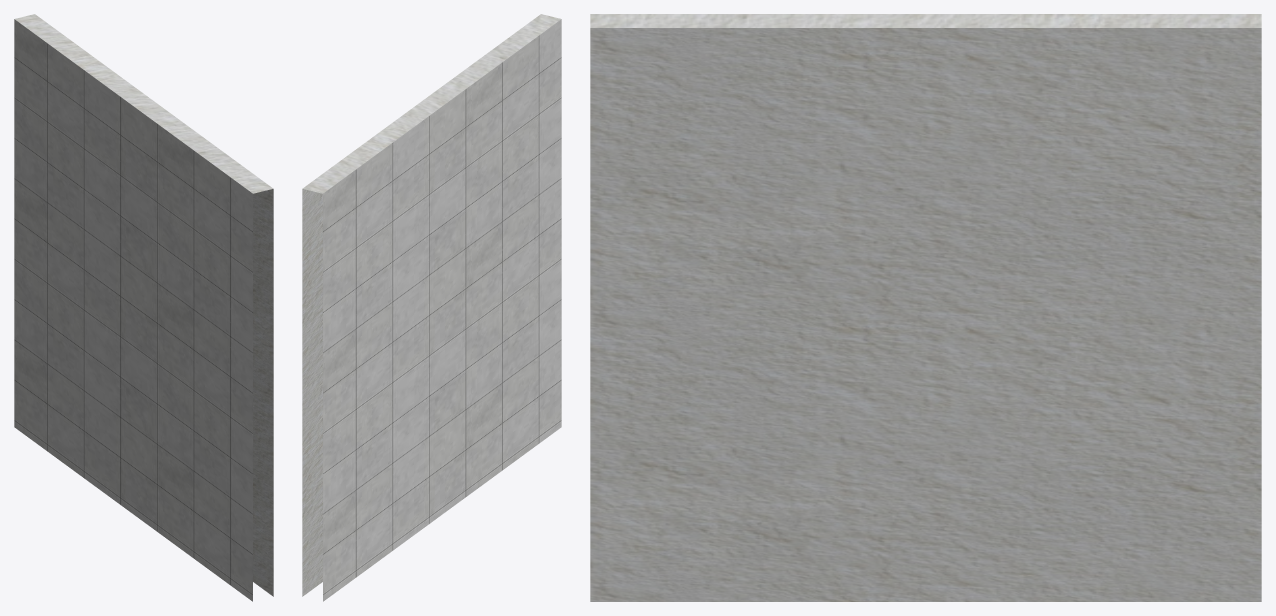
Rendered from wall_13.obj.
3 views of the same model, side by side, from view 1: azimuth 30°, elevation 25°; view 2: azimuth 150°, elevation 25°; view 3: azimuth 270°, elevation 25° (orthographic). The views are drawn at different scales.
Parts seen in each view (by area): view 1: Cube.005; view 2: Cube.005; view 3: Cube.005.
Boxes of the visible parts, x1=… form: Cube.005: x1=14, y1=14, x2=273, y2=601; Cube.005: x1=302, y1=14, x2=561, y2=601; Cube.005: x1=590, y1=14, x2=1261, y2=601.
Size of the model in its own units: 0.2707 by 5.13 by 5.44.
2 materials, 2 textured.
